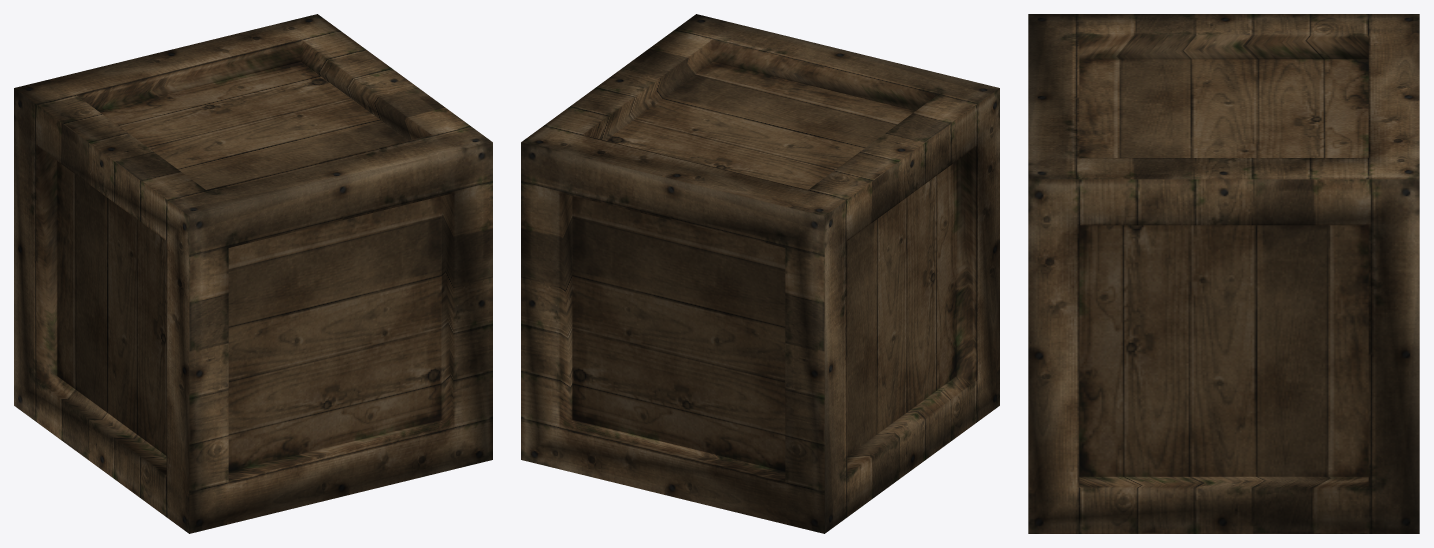
The model's file is cratea4.gltf.
The picture shows the model from 3 angles, left to right: view 1: azimuth 30°, elevation 25°; view 2: azimuth 150°, elevation 25°; view 3: azimuth 270°, elevation 25°; orthographic projection. The views are drawn at different scales.
Visible parts, largest first — view 1: cratea; view 2: cratea; view 3: cratea.
Boxes of the visible parts, box(x1,y1,x2,y2) form: cratea: box(14, 14, 492, 533); cratea: box(521, 14, 999, 533); cratea: box(1028, 14, 1419, 533).
Size of the model in its own units: 0.9995 by 0.9995 by 0.9995.
1 material, 1 textured.
